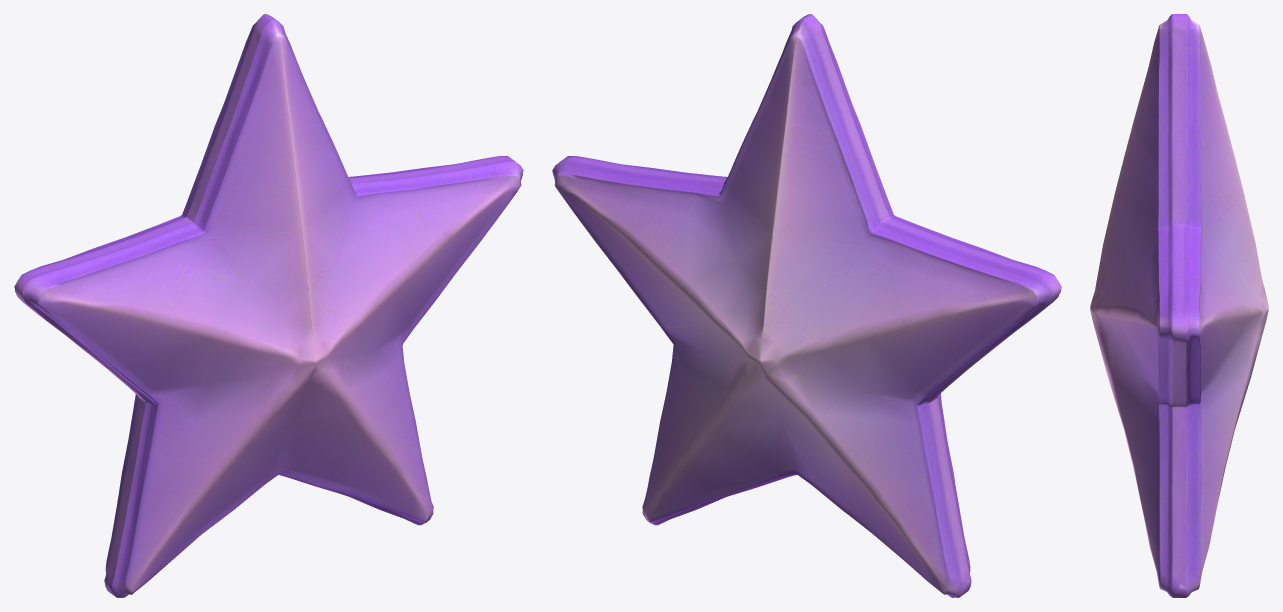
The picture shows the model from 3 angles, left to right: view 1: azimuth 30°, elevation 25°; view 2: azimuth 150°, elevation 25°; view 3: azimuth 270°, elevation 25°; orthographic projection. The views are drawn at different scales.
Bounding box in the file's own units: 1.84 × 1.91 × 0.5988.
1 material, 1 textured.
